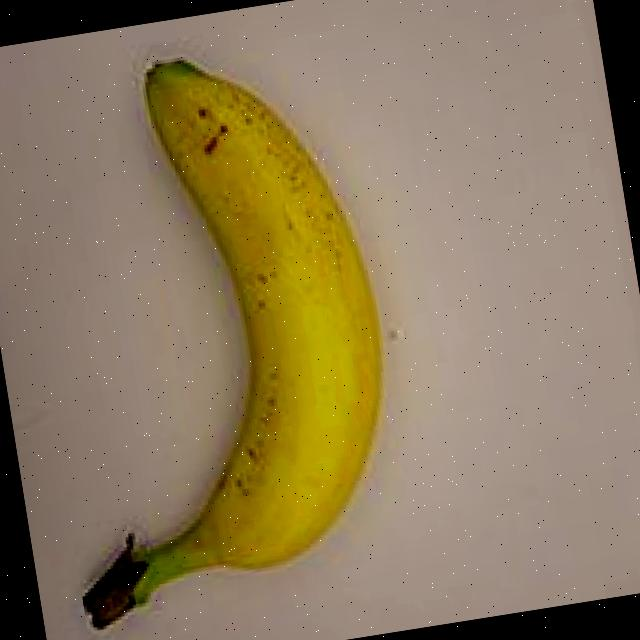Ripe: (0, 15, 449, 640)
